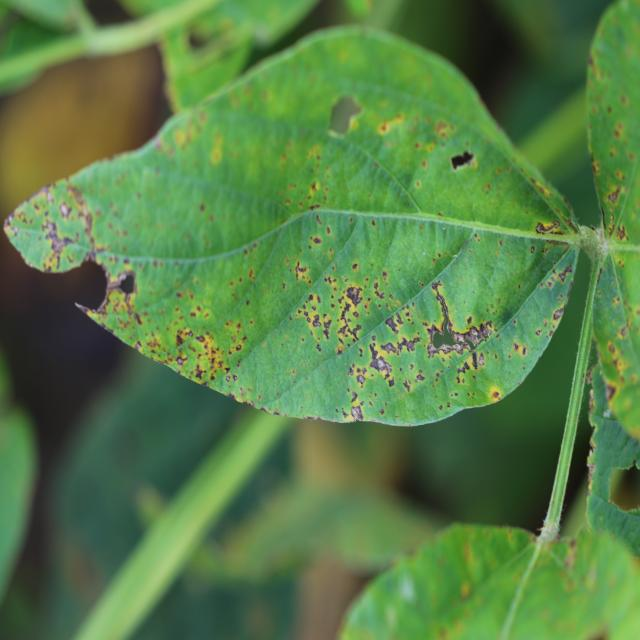Bacterial_Blight: (31, 182, 132, 314), (417, 283, 492, 363), (40, 213, 75, 265), (65, 183, 93, 248), (375, 321, 418, 359), (328, 94, 363, 135), (432, 284, 454, 338), (367, 340, 394, 377), (336, 321, 361, 345), (534, 219, 571, 235), (450, 149, 475, 171), (294, 260, 311, 282), (345, 285, 363, 305), (606, 185, 624, 205), (385, 314, 402, 335), (557, 263, 573, 283), (615, 222, 630, 242), (380, 341, 398, 355), (351, 405, 364, 422), (322, 318, 332, 339)
Soybean: (4, 27, 580, 426)
